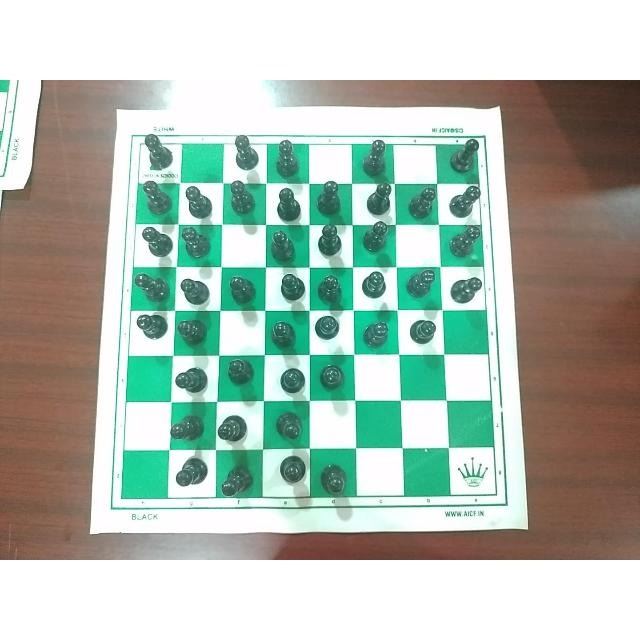black-pawn: (169, 451, 211, 492), (133, 132, 176, 172), (360, 134, 400, 177), (268, 184, 310, 222), (170, 360, 212, 398), (219, 461, 257, 503), (403, 316, 447, 352), (131, 266, 170, 306), (272, 135, 304, 182), (138, 175, 175, 215), (178, 269, 214, 310), (448, 182, 486, 220), (270, 407, 310, 443), (319, 459, 354, 500), (178, 182, 217, 218), (222, 272, 261, 308), (220, 177, 255, 217), (266, 224, 300, 264), (355, 265, 391, 302), (358, 180, 394, 216), (445, 136, 480, 173), (230, 131, 262, 171), (313, 218, 344, 259), (267, 316, 302, 352), (316, 269, 348, 308), (407, 184, 438, 224), (175, 310, 210, 345), (180, 223, 214, 259), (448, 225, 482, 261), (132, 311, 168, 345), (360, 316, 394, 352), (275, 362, 309, 398), (360, 219, 392, 255), (166, 412, 203, 443), (222, 354, 255, 388), (451, 271, 485, 303), (215, 411, 247, 445), (139, 224, 172, 256), (275, 454, 307, 487), (318, 361, 348, 396), (277, 270, 309, 302), (318, 180, 346, 216), (313, 312, 341, 348), (404, 267, 436, 295)
